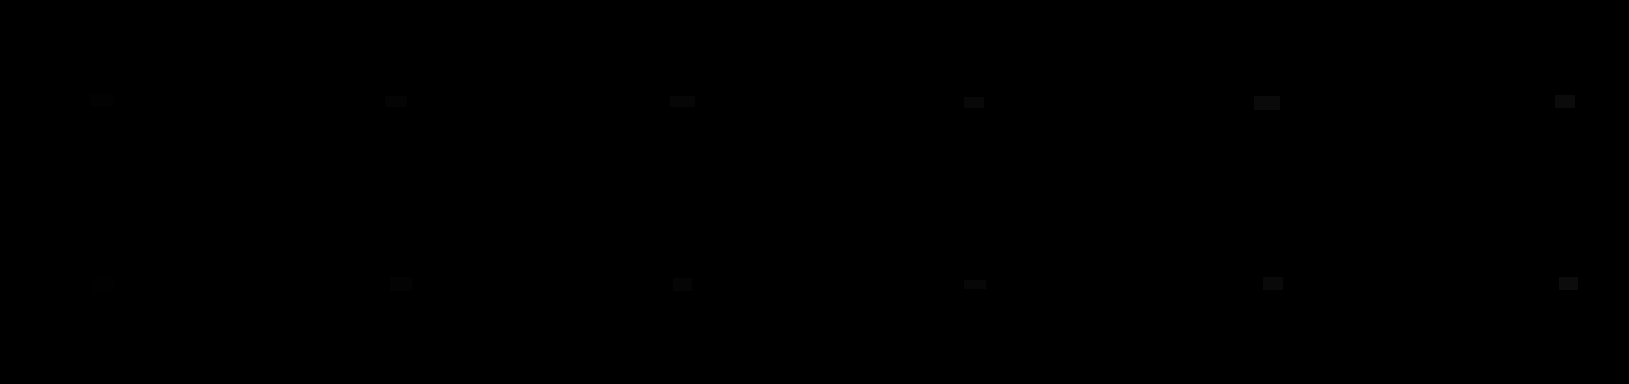light: (1254, 95, 1280, 110), (94, 277, 114, 293), (390, 277, 412, 291), (90, 94, 113, 107), (670, 95, 695, 107), (385, 95, 407, 107), (1263, 277, 1283, 290), (1555, 95, 1575, 108), (673, 278, 692, 291), (1559, 277, 1578, 290), (964, 97, 984, 108), (964, 280, 986, 289)
